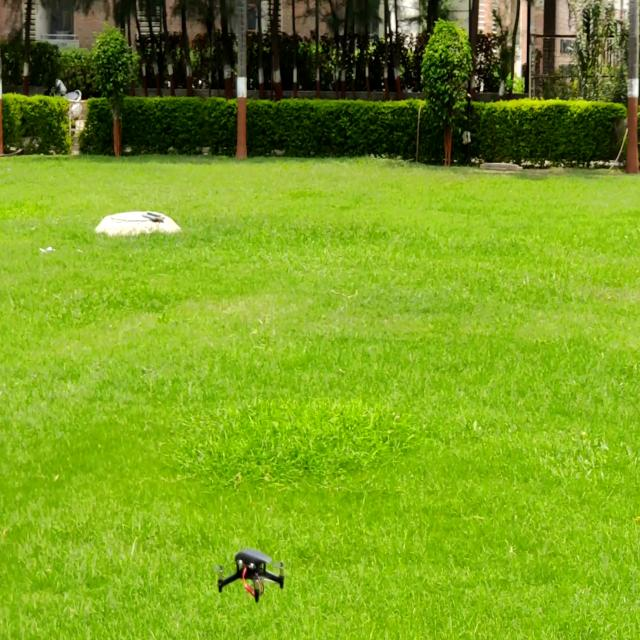drone: (196, 540, 296, 610)
